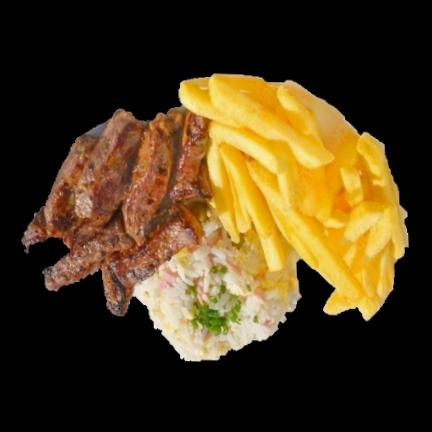meat: (20, 108, 210, 313)
potato: (178, 82, 408, 320)
rice: (131, 237, 304, 363)
